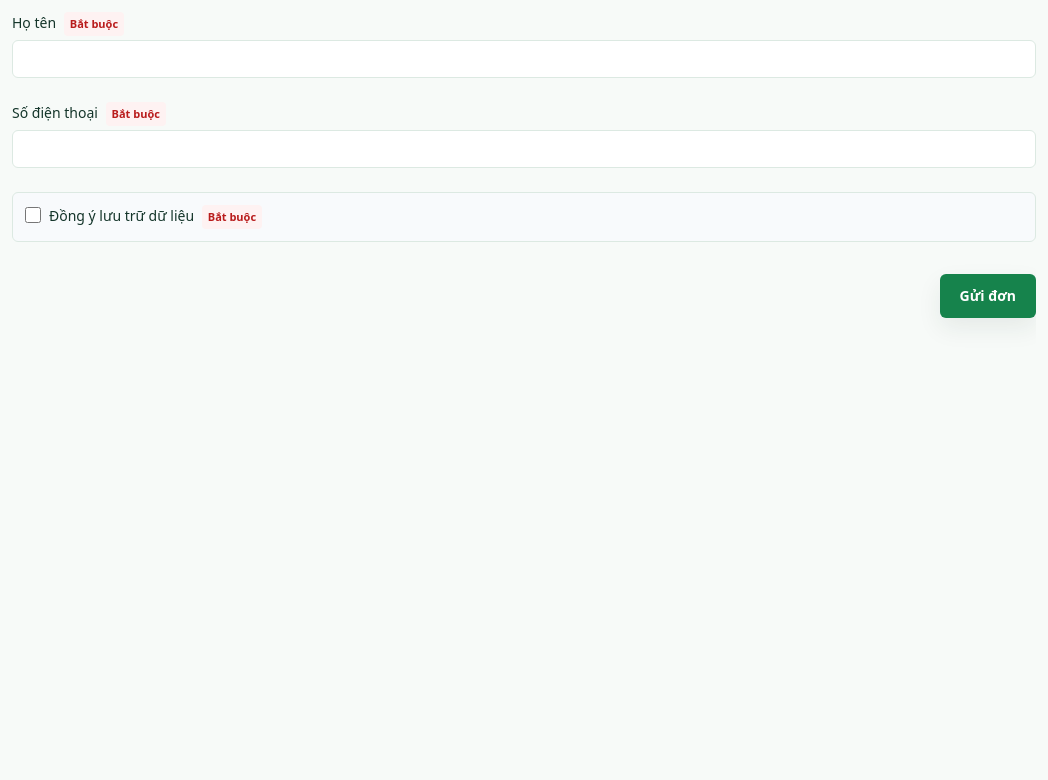
Test: S12 UAT — invalid-event recursion is fixed › summarises every missing field and focuses the first invalid control
Click the button "Gửi đơn": x=988, y=296 [940,274,1036,318]
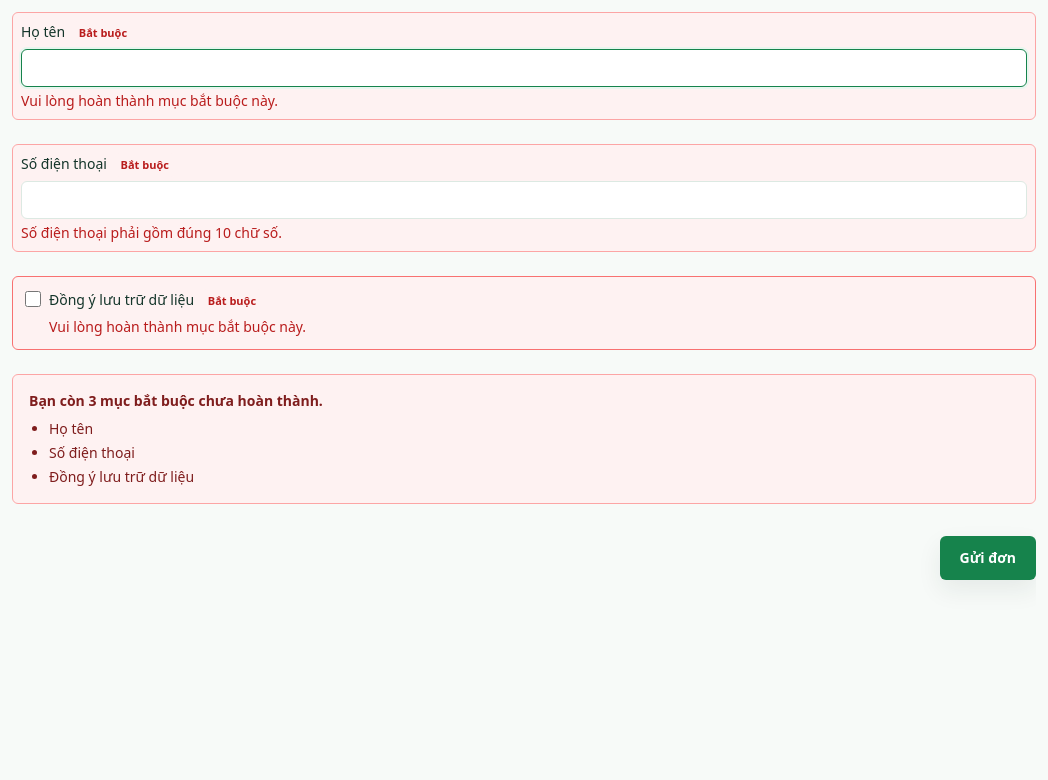
Expected: the text "Bạn còn 3 mục bắt buộc chưa hoàn thành." is shown, [29,391,323,410]
